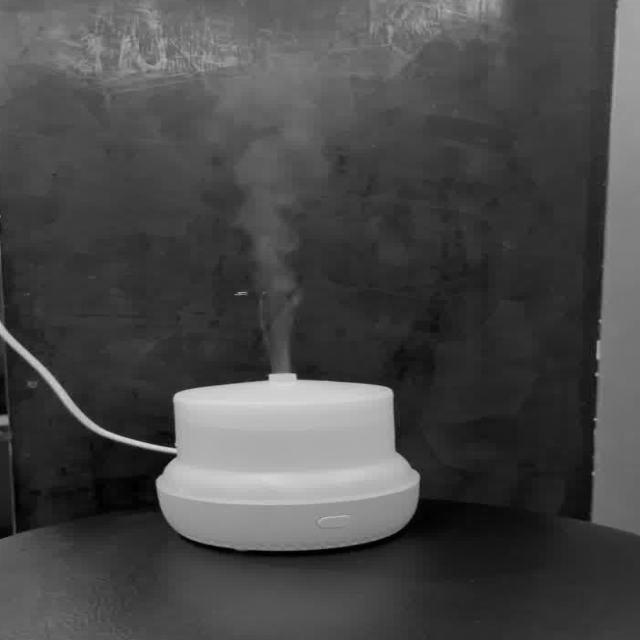fire: (244, 116, 314, 371)
